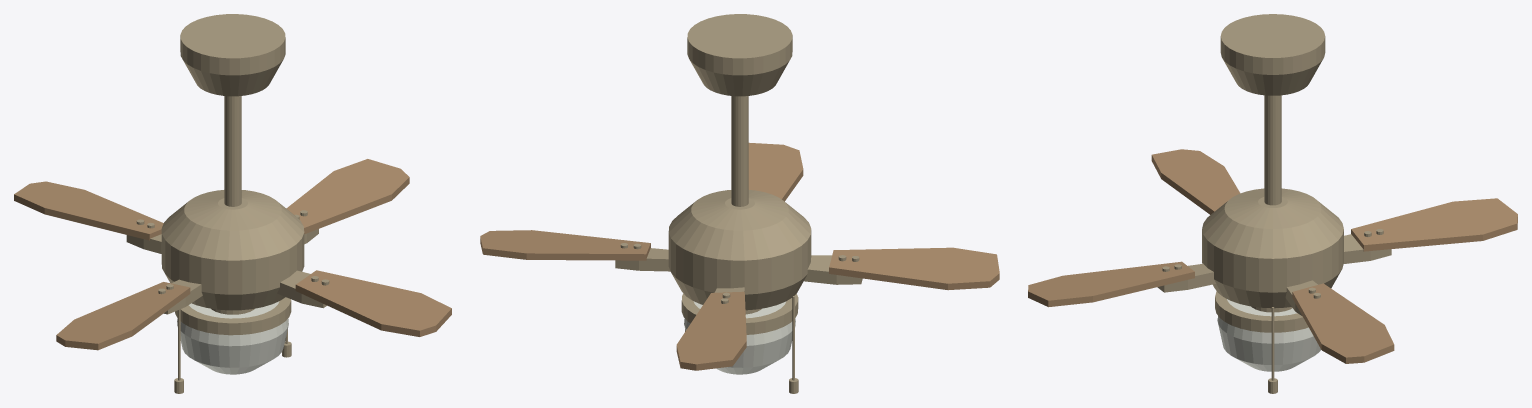
3 renders of one model, left to right at view 1: azimuth 30°, elevation 25°; view 2: azimuth 150°, elevation 25°; view 3: azimuth 270°, elevation 25°, orthographic.
Visible parts, largest first — view 1: WholeClosedMotorHousing, WholeCeilingCanopy, WholePaddleBlade_3, WholePaddleBlade_0, WholeOpaqueLampDiffuser, WholePaddleBlade_2, WholePaddleBlade_1, WholeLowerDiffuserCollar, WholeSuspensionDownrod, WholeOffsetBladeBracket_3, WholeOffsetBladeBracket_2, WholeOffsetBladeBracket_1; view 2: WholeClosedMotorHousing, WholeCeilingCanopy, WholePaddleBlade_2, WholePaddleBlade_1, WholePaddleBlade_0, WholePaddleBlade_3, WholeOpaqueLampDiffuser, WholeSuspensionDownrod, WholeLowerDiffuserCollar, WholeOffsetBladeBracket_2, WholeOffsetBladeBracket_0; view 3: WholeClosedMotorHousing, WholeCeilingCanopy, WholePaddleBlade_1, WholePaddleBlade_0, WholePaddleBlade_3, WholeOpaqueLampDiffuser, WholePaddleBlade_2, WholeSuspensionDownrod, WholeLowerDiffuserCollar, WholeOffsetBladeBracket_3, WholeOffsetBladeBracket_1.
Boxes of the visible parts, box(x1,y1,x2,y2) form: WholeClosedMotorHousing: box(161, 190, 304, 310); WholeCeilingCanopy: box(180, 14, 285, 96); WholePaddleBlade_3: box(295, 270, 451, 336); WholePaddleBlade_0: box(286, 159, 409, 234); WholeOpaqueLampDiffuser: box(177, 301, 288, 374); WholePaddleBlade_2: box(56, 282, 190, 350); WholePaddleBlade_1: box(14, 181, 163, 240); WholeLowerDiffuserCollar: box(175, 297, 291, 335); WholeSuspensionDownrod: box(224, 96, 241, 206); WholeOffsetBladeBracket_3: box(277, 270, 326, 308); WholeOffsetBladeBracket_2: box(164, 279, 202, 314); WholeOffsetBladeBracket_1: box(126, 234, 161, 253); WholeClosedMotorHousing: box(668, 190, 811, 310); WholeCeilingCanopy: box(687, 14, 792, 96); WholePaddleBlade_2: box(829, 247, 999, 290); WholePaddleBlade_1: box(676, 291, 746, 370); WholePaddleBlade_0: box(480, 230, 650, 260); WholePaddleBlade_3: box(748, 142, 803, 201); WholeOpaqueLampDiffuser: box(684, 301, 795, 374); WholeSuspensionDownrod: box(731, 96, 748, 206); WholeLowerDiffuserCollar: box(681, 293, 798, 334); WholeOffsetBladeBracket_2: box(804, 255, 862, 284); WholeOffsetBladeBracket_0: box(615, 248, 670, 271); WholeClosedMotorHousing: box(1202, 188, 1343, 308); WholeCeilingCanopy: box(1220, 14, 1325, 95); WholePaddleBlade_1: box(1351, 198, 1517, 251); WholePaddleBlade_0: box(1292, 283, 1394, 363); WholePaddleBlade_3: box(1028, 261, 1194, 307); WholeOpaqueLampDiffuser: box(1217, 299, 1321, 371); WholePaddleBlade_2: box(1151, 149, 1240, 214); WholeSuspensionDownrod: box(1264, 95, 1281, 205); WholeLowerDiffuserCollar: box(1215, 291, 1308, 332); WholeOffsetBladeBracket_3: box(1157, 263, 1216, 292); WholeOffsetBladeBracket_1: box(1343, 234, 1391, 263).
Size of the model in its own units: 1.31 by 1 by 1.31.
